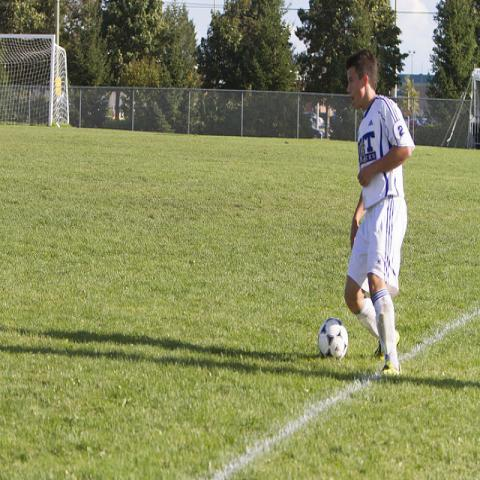car: (303, 112, 325, 130)
